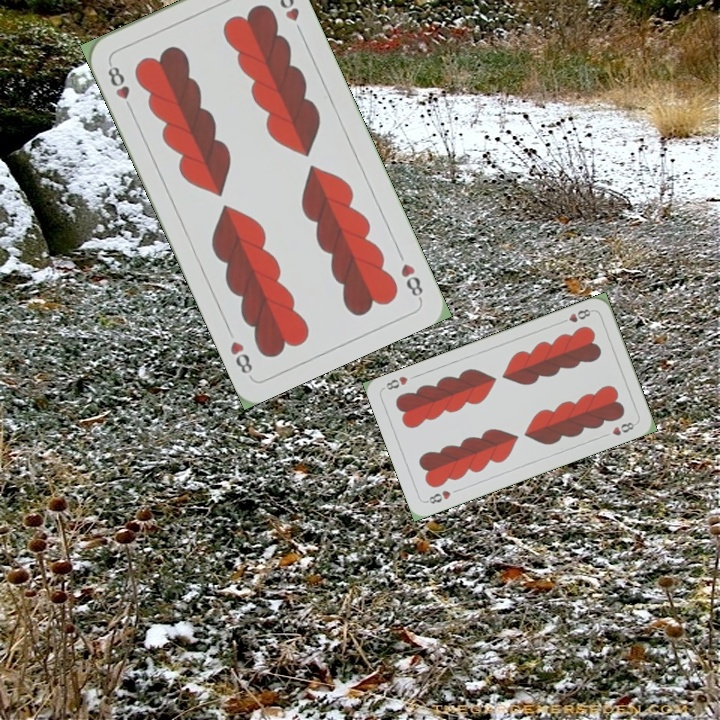H8: (103, 58, 136, 114), (396, 259, 426, 302), (556, 305, 596, 326), (422, 486, 453, 506)
